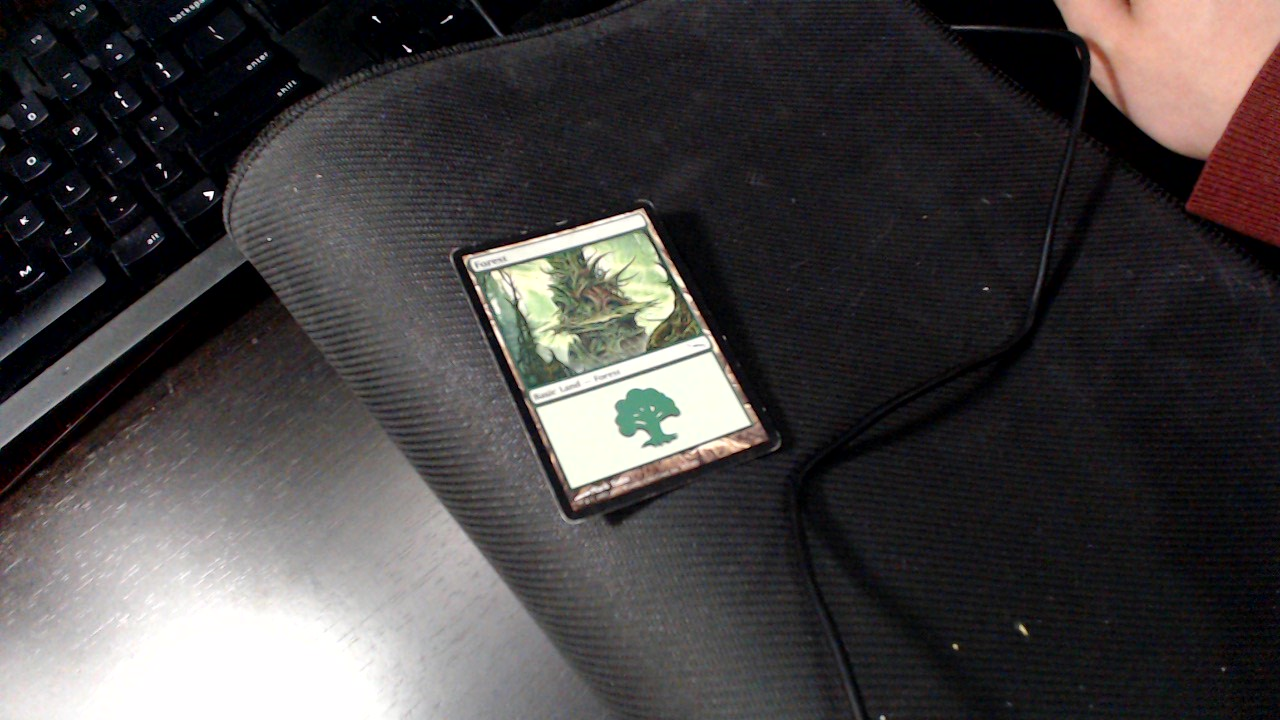MTG Card: (442, 192, 792, 528)
